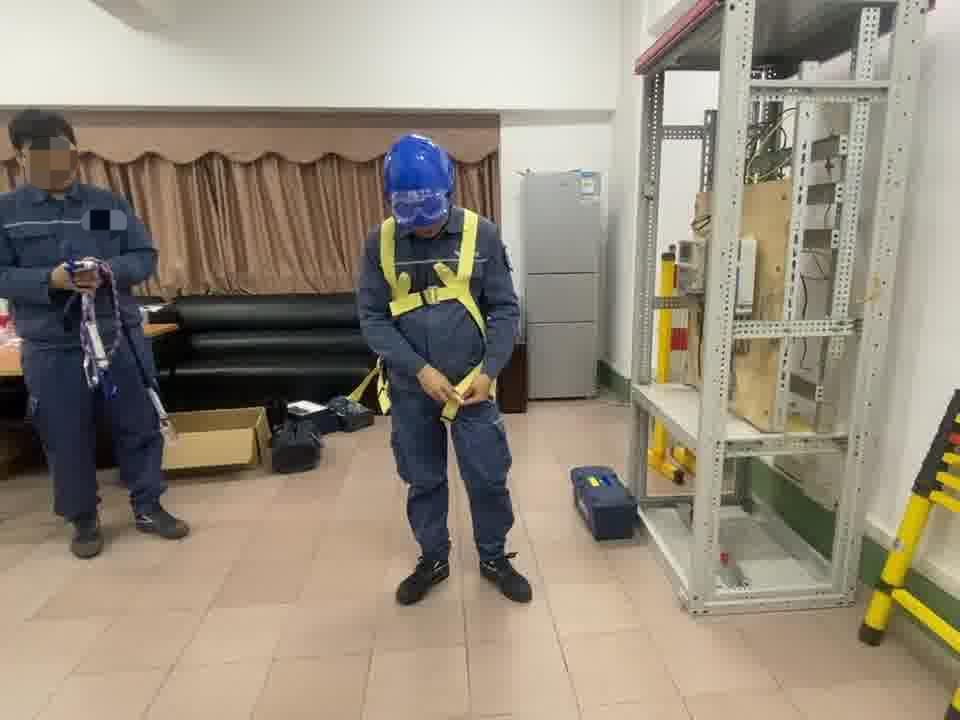halt: (385, 136, 458, 231)
unhalt: (11, 111, 84, 191)
